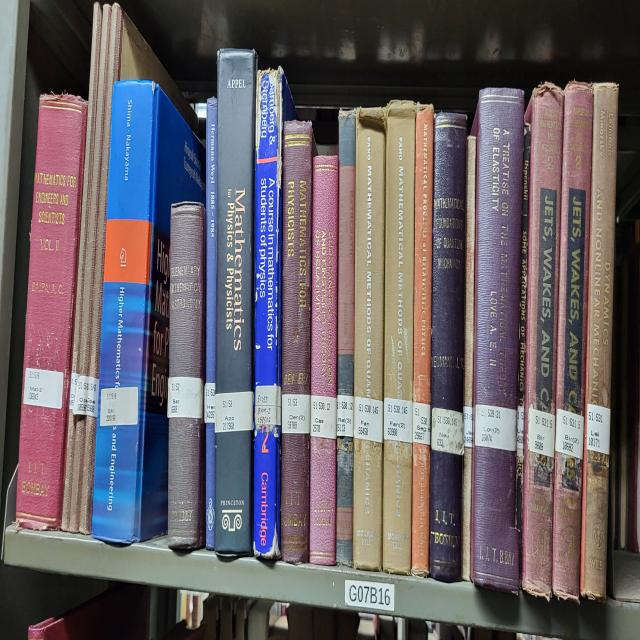Book: (61, 3, 194, 533), (92, 78, 205, 544), (16, 95, 88, 530), (471, 89, 524, 595), (521, 84, 564, 601), (215, 49, 256, 557), (552, 81, 592, 601), (254, 68, 295, 560), (580, 84, 619, 601), (429, 111, 468, 582), (382, 100, 416, 574), (354, 108, 386, 571), (281, 122, 314, 563), (168, 203, 205, 549), (310, 157, 339, 565), (411, 106, 434, 576), (336, 111, 356, 565), (461, 135, 476, 579), (204, 97, 218, 549), (516, 124, 531, 536)
Label: (475, 403, 516, 452), (215, 390, 254, 433), (24, 368, 64, 409), (100, 387, 139, 427), (168, 376, 204, 419), (431, 409, 464, 455), (555, 409, 584, 460), (528, 406, 555, 457), (354, 398, 382, 444), (384, 398, 412, 444), (586, 403, 610, 455), (255, 384, 281, 430), (281, 395, 310, 436), (310, 395, 336, 438), (72, 376, 99, 417), (336, 395, 354, 438), (412, 403, 430, 446), (204, 381, 215, 422), (516, 406, 524, 457), (464, 406, 472, 446), (324, 411, 325, 414)
